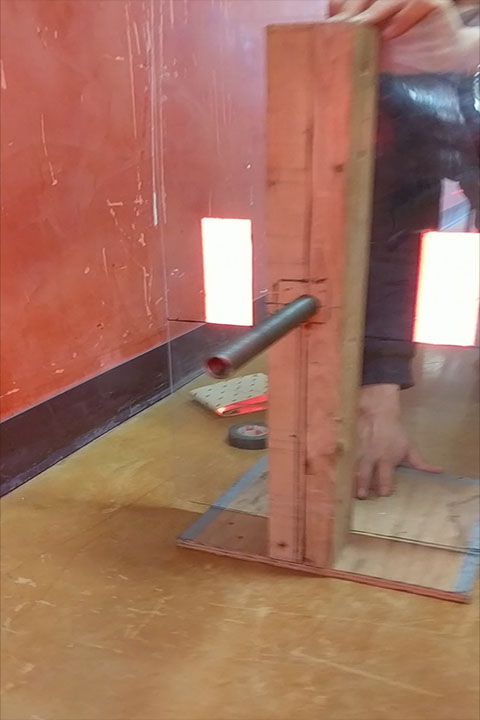gear: (412, 230, 480, 347), (200, 217, 253, 329)
